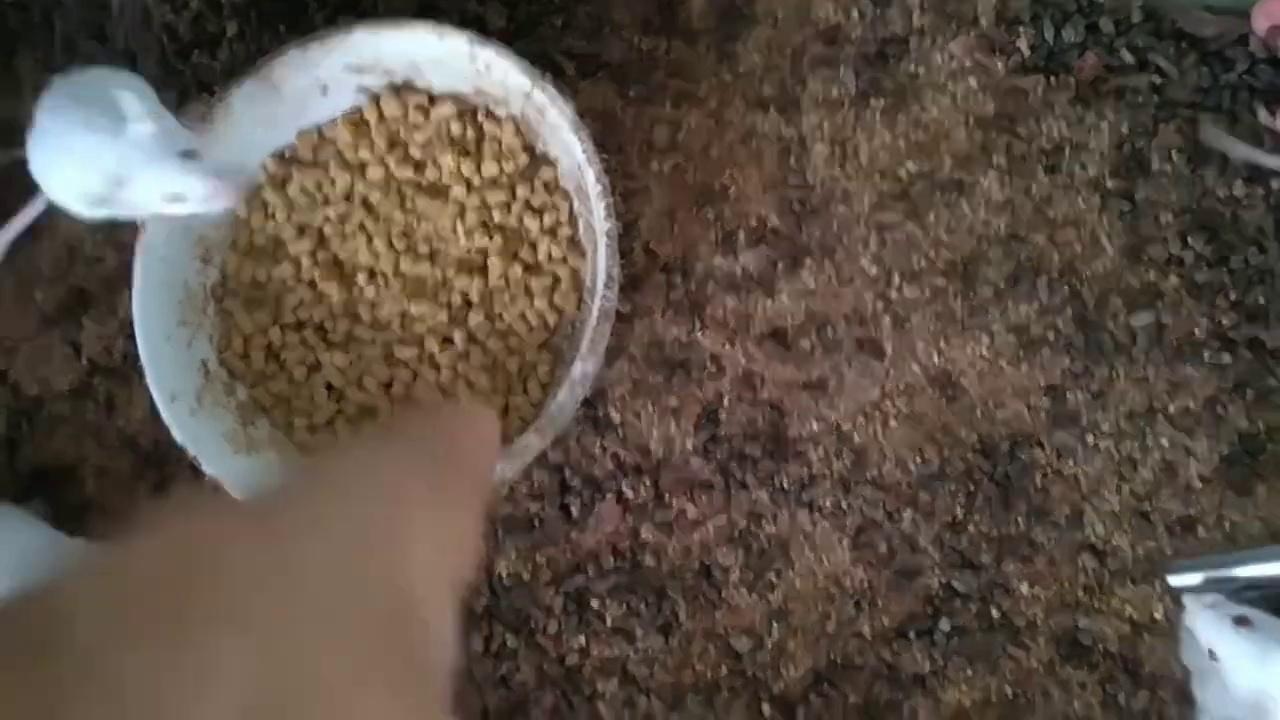rat: (1, 70, 232, 253), (1179, 593, 1277, 720)
